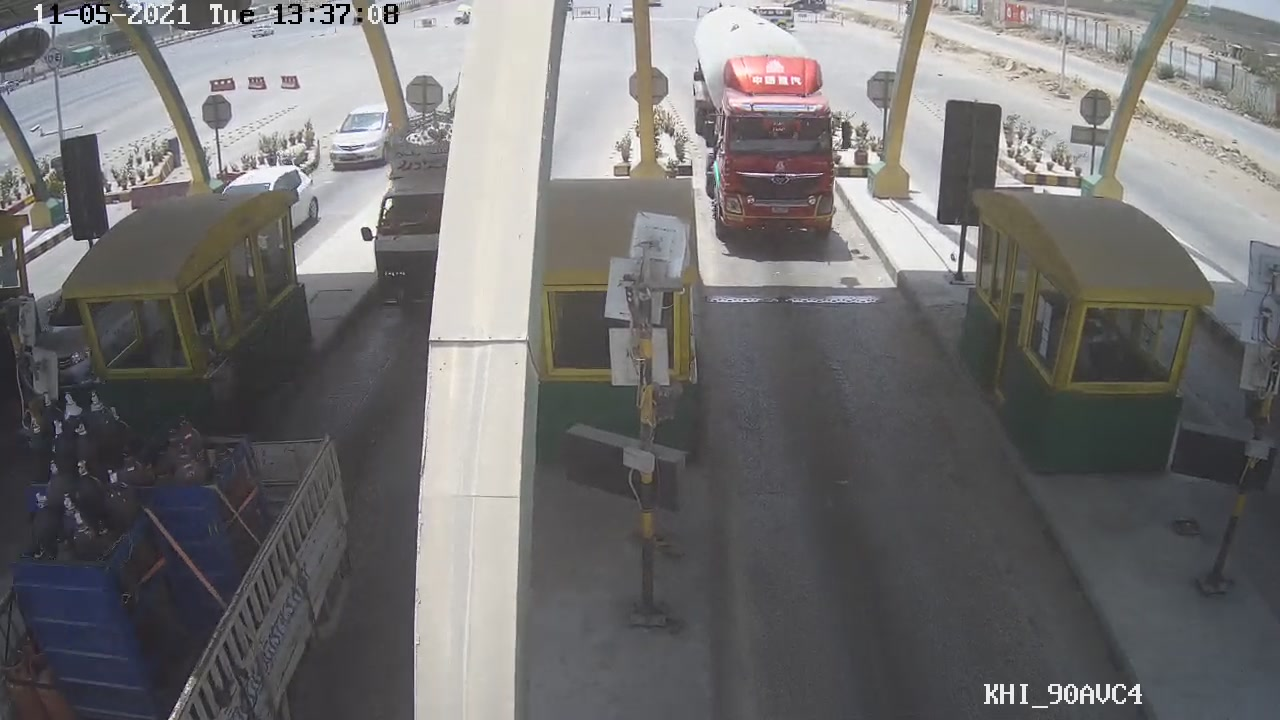F6: (691, 5, 847, 250)
